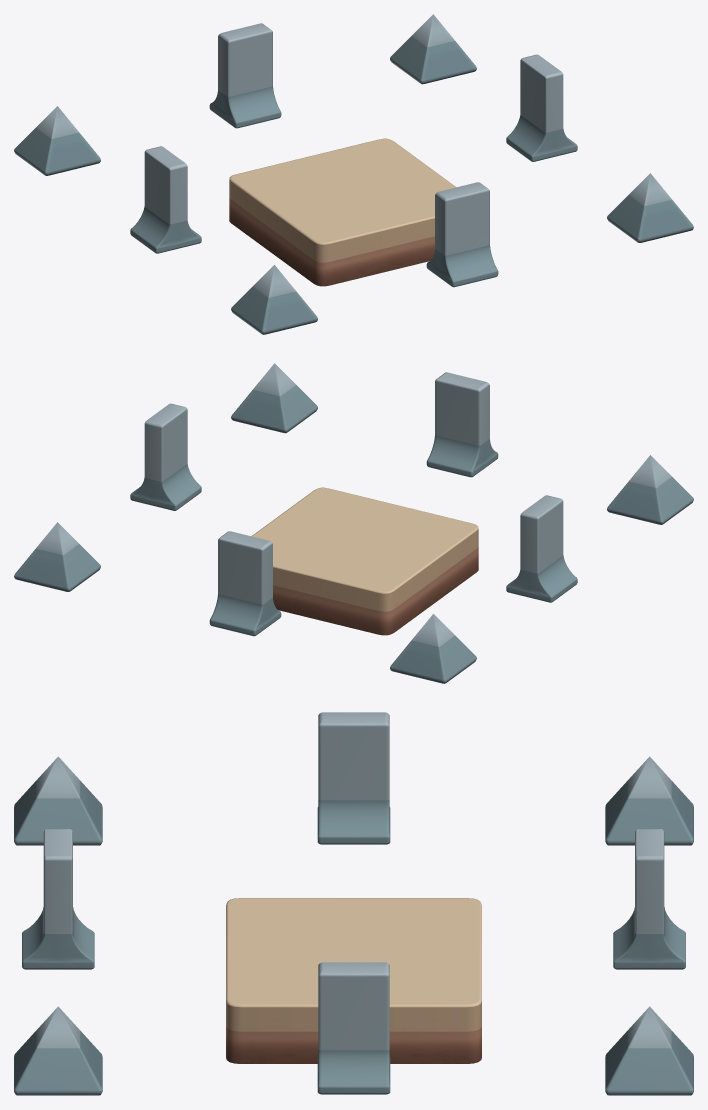
Rendered from Props.fbx.
3 views of the same model, one above another, from view 1: azimuth 30°, elevation 25°; view 2: azimuth 150°, elevation 25°; view 3: azimuth 270°, elevation 25° (orthographic). The views are drawn at different scales.
Parts seen in each view (by area): view 1: Box02, 曲面单元 (×4), 三角锥 (×4); view 2: Box02, 曲面单元 (×4), 三角锥 (×4); view 3: Box02, 曲面单元 (×4), 三角锥 (×4).
Boxes of the visible parts, x1,y1,x2,y2 form: Box02: [229, 138, 456, 286]; 曲面单元 (×4): [130, 23, 577, 287]; 三角锥 (×4): [14, 14, 693, 334]; Box02: [251, 487, 478, 635]; 曲面单元 (×4): [130, 372, 577, 636]; 三角锥 (×4): [14, 363, 693, 683]; Box02: [226, 898, 481, 1063]; 曲面单元 (×4): [22, 712, 685, 1094]; 三角锥 (×4): [14, 756, 693, 1095].
Size of the model in its own units: 27.59 by 7.49 by 27.6.
